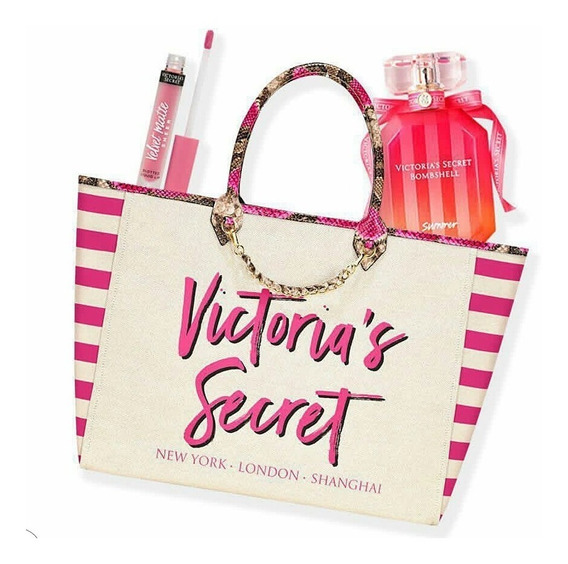cartera: (71, 61, 530, 528)
